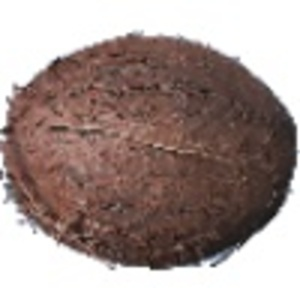coco: (1, 31, 300, 270)
